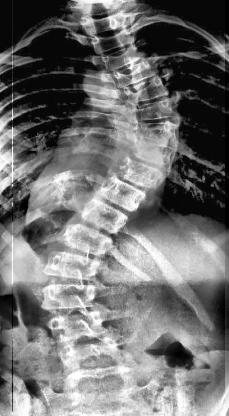Vertebrae: (38, 280, 109, 314), (42, 312, 114, 342), (42, 250, 102, 282), (124, 142, 184, 173), (54, 225, 112, 255), (129, 119, 191, 146), (80, 204, 133, 231), (97, 180, 147, 206), (116, 161, 166, 187), (120, 80, 172, 104), (134, 100, 184, 122), (112, 62, 160, 84), (84, 13, 138, 32), (92, 32, 136, 54), (102, 48, 144, 66)
